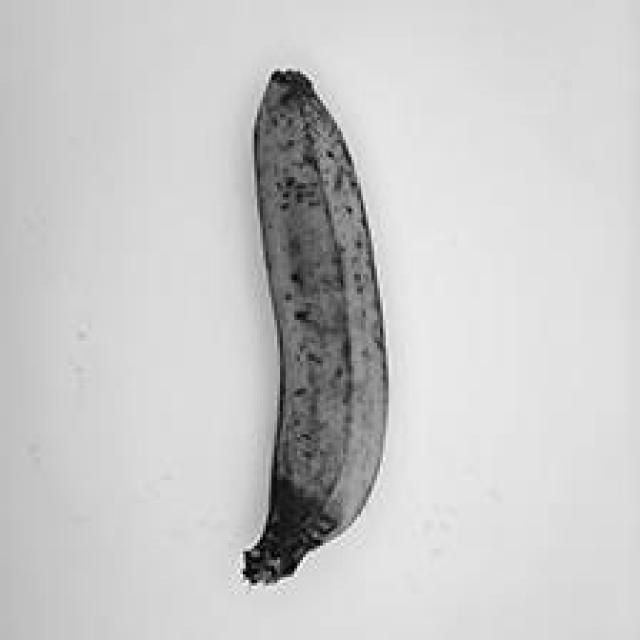Overripe: (190, 42, 426, 615)
